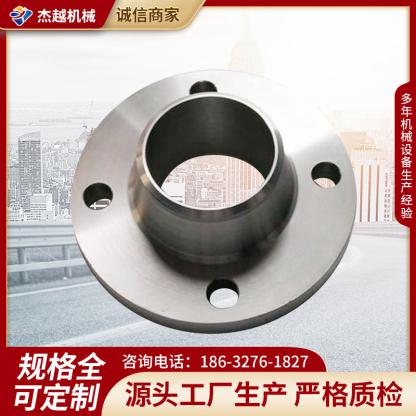FOD: (64, 64, 361, 338)
